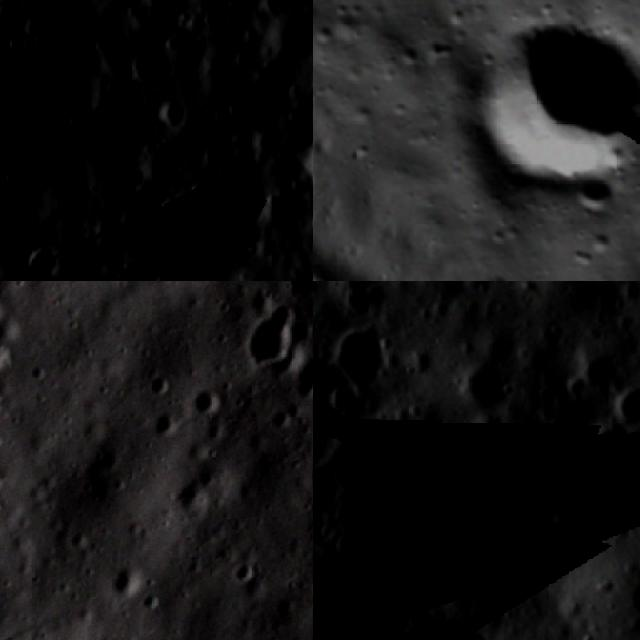crater: (441, 0, 640, 219), (424, 481, 562, 628), (0, 7, 103, 199), (548, 474, 630, 565), (317, 312, 401, 397), (228, 301, 308, 382), (568, 341, 640, 413), (540, 398, 606, 463), (456, 354, 522, 419), (132, 134, 196, 196), (562, 166, 625, 226), (578, 423, 639, 484), (263, 2, 313, 76), (115, 186, 171, 249), (465, 418, 523, 477), (392, 547, 450, 605), (178, 379, 234, 435), (244, 107, 298, 161), (123, 36, 175, 88), (16, 231, 69, 281), (274, 349, 313, 416), (137, 403, 186, 454), (222, 550, 270, 602), (196, 126, 245, 176), (102, 563, 152, 612), (150, 186, 201, 232), (323, 376, 368, 428), (259, 187, 305, 236), (152, 87, 198, 134), (127, 227, 174, 271), (604, 382, 640, 436), (231, 214, 273, 256), (39, 0, 112, 24), (138, 370, 176, 410), (0, 0, 22, 63), (431, 623, 505, 640), (146, 257, 195, 281), (0, 332, 17, 393), (456, 281, 509, 296), (301, 127, 313, 190), (256, 0, 293, 19)
